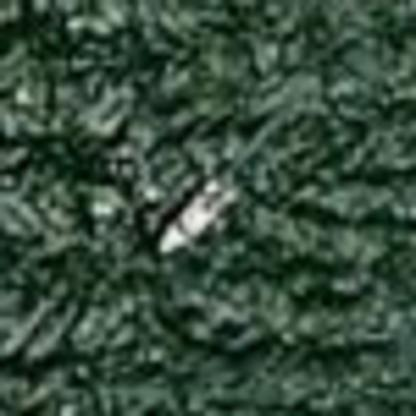ship: (153, 165, 249, 260)
